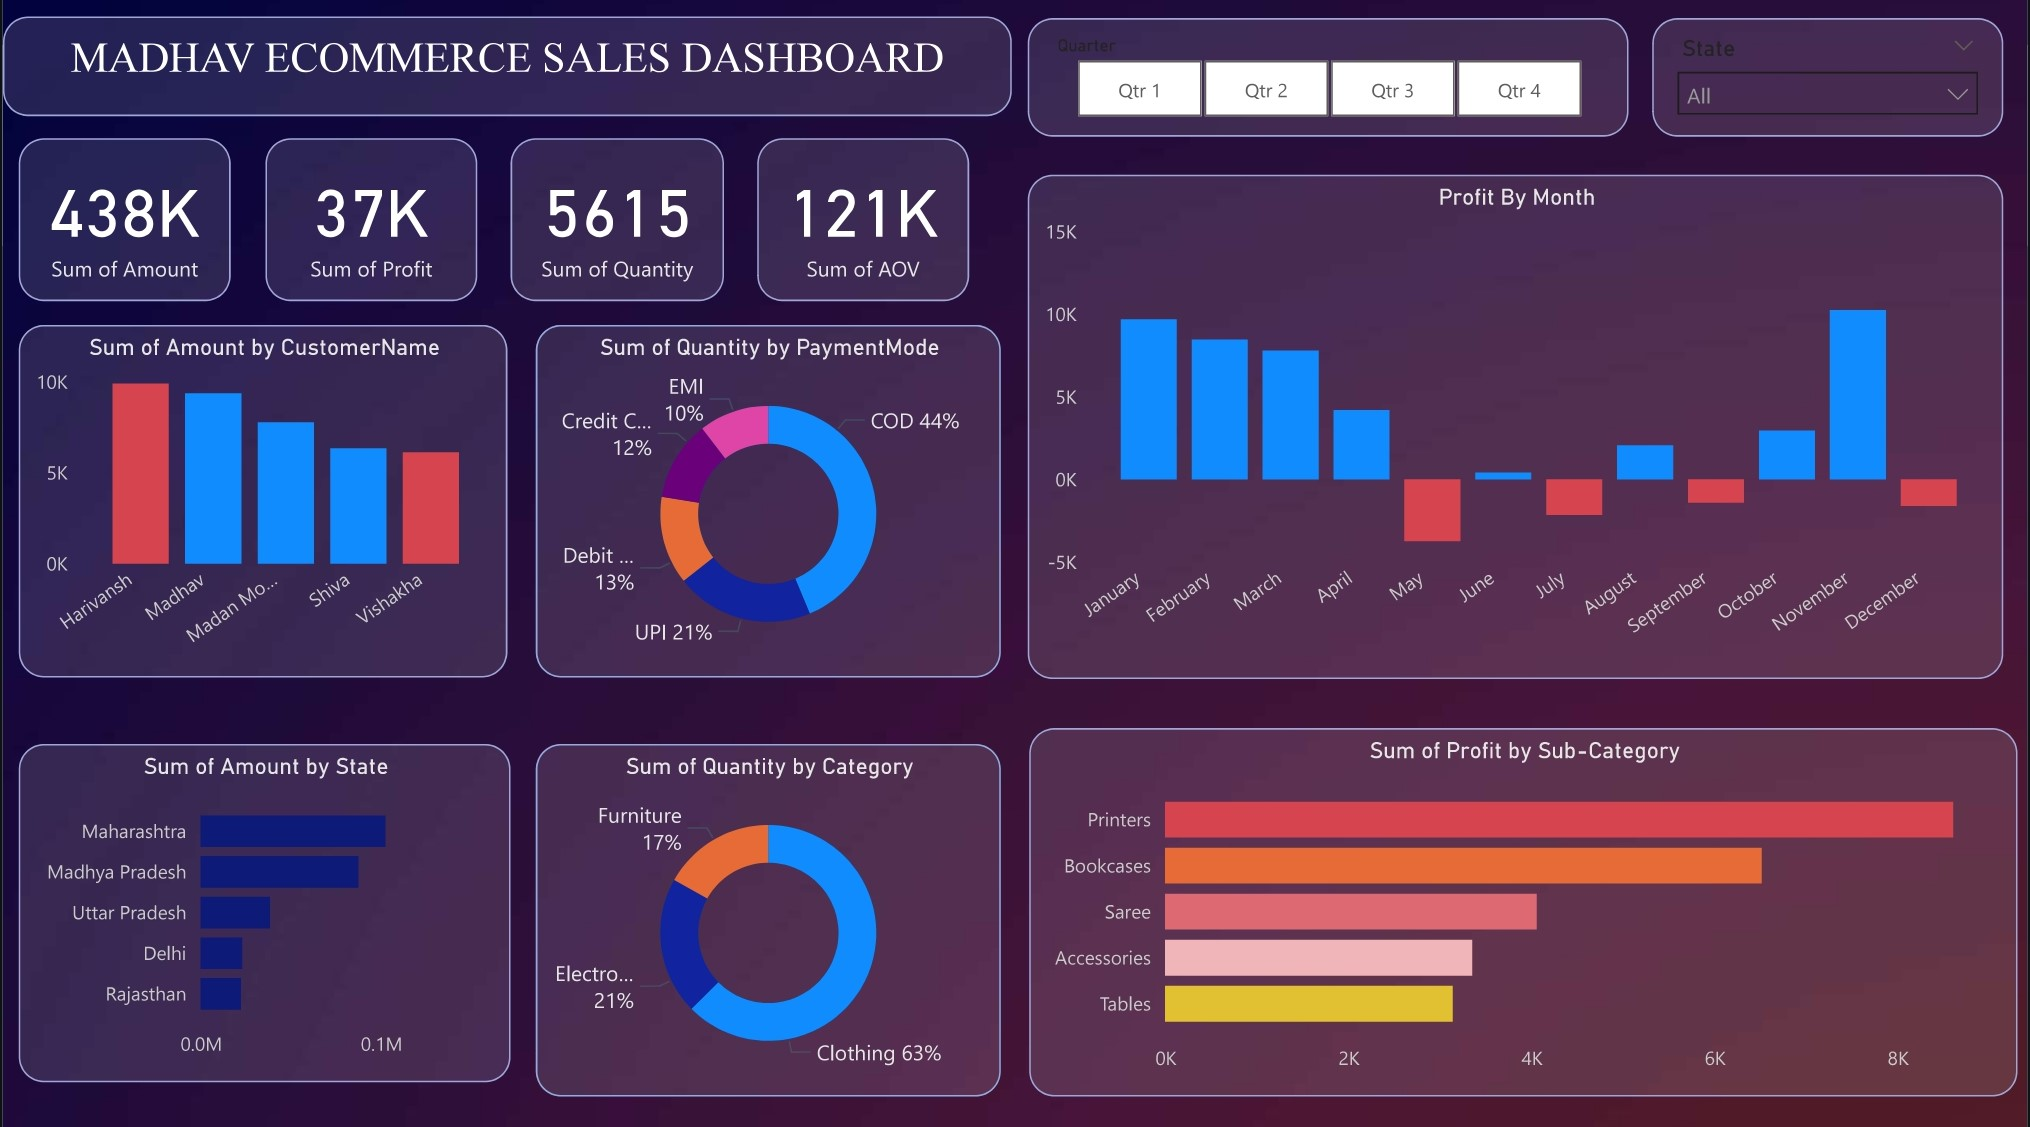

What the dashboard file says about the page in this screenshot:
{"tool":"powerbi","page":{"name":"Page 1","canvas":[1280,720],"ordinal":0},"visuals":[{"type":"columnChart","title":"Profit By Month","fields":{"Y":["Details.Profit"],"Category":["Orders.Order Date.Variation.Date Hierarchy.Month"]},"box":[648.4,115.9,616.5,319.2],"z":0},{"type":"barChart","fields":{"Category":["Orders.State"],"Y":["Details.Amount"]},"box":[10,475.7,311.4,214.3],"z":1000},{"type":"donutChart","fields":{"Category":["Details.Category"],"Y":["Details.Quantity"]},"box":[337.1,475.7,294.3,222.9],"z":2000},{"type":"donutChart","fields":{"Category":["Details.PaymentMode"],"Y":["Details.Quantity"]},"box":[337.1,211.4,294.3,222.9],"z":3000},{"type":"card","fields":{"Values":["Details.Amount"]},"box":[10,92.9,134.3,102.9],"z":4000},{"type":"card","fields":{"Values":["Details.Quantity"]},"box":[321.4,92.9,134.3,102.9],"z":5000},{"type":"card","fields":{"Values":["Details.AOV"]},"box":[477.1,92.9,134.3,102.9],"z":6000},{"type":"card","fields":{"Values":["Details.Profit"]},"box":[165.7,92.9,134.3,102.9],"z":7000},{"type":"barChart","fields":{"Category":["Details.Sub-Category"],"Y":["Details.Profit"]},"box":[648.6,465.7,625.7,232.9],"z":8000},{"type":"columnChart","fields":{"Category":["Orders.CustomerName"],"Y":["Details.Amount"]},"box":[10,211.4,308.6,222.9],"z":9000},{"type":"textbox","box":[0,16.2,637.7,63.2],"z":10000},{"type":"slicer","fields":{"Values":["Orders.Order Date.Variation.Date Hierarchy.Quarter"]},"box":[648.4,16.8,379.6,75.6],"z":11000},{"type":"slicer","fields":{"Values":["Orders.State"]},"box":[1043.1,16.8,221.7,75.6],"z":12000}]}

Visuals, with their boxes in screenshot pixels (x1, y1, x2, y2), scaled from the page's 1280x720 canvas onto the 2030x1127 screenshot:
"Profit By Month" columnChart: bbox=(1028, 181, 2006, 681)
barChart - Orders.State x Details.Amount: bbox=(16, 745, 510, 1080)
donutChart - Details.Category x Details.Quantity: bbox=(535, 745, 1001, 1094)
donutChart - Details.PaymentMode x Details.Quantity: bbox=(535, 331, 1001, 680)
card - Details.Amount: bbox=(16, 145, 229, 306)
card - Details.Quantity: bbox=(510, 145, 723, 306)
card - Details.AOV: bbox=(757, 145, 970, 306)
card - Details.Profit: bbox=(263, 145, 476, 306)
barChart - Details.Sub-Category x Details.Profit: bbox=(1029, 729, 2021, 1094)
columnChart - Orders.CustomerName x Details.Amount: bbox=(16, 331, 505, 680)
textbox: bbox=(0, 25, 1011, 124)
slicer - Orders.Order Date.Variation.Date Hierarchy.Quarter: bbox=(1028, 26, 1630, 145)
slicer - Orders.State: bbox=(1654, 26, 2006, 145)
